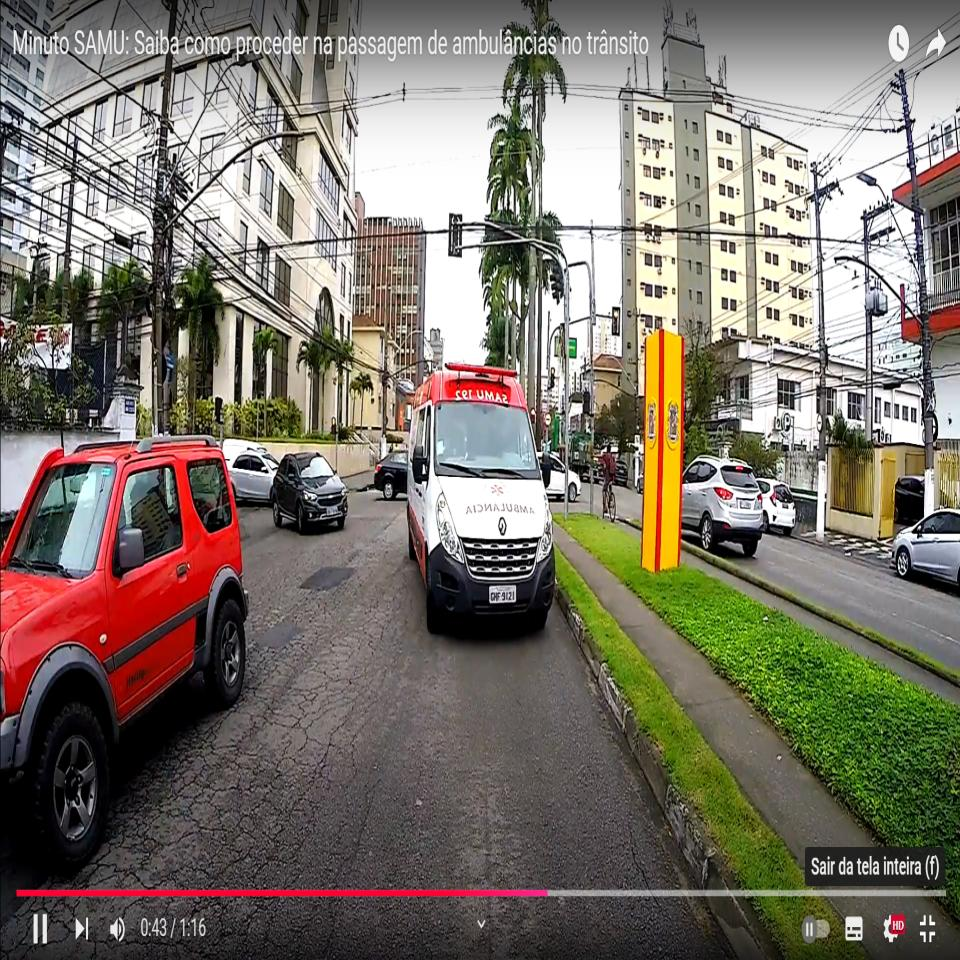bombeiro: (408, 360, 558, 639)
